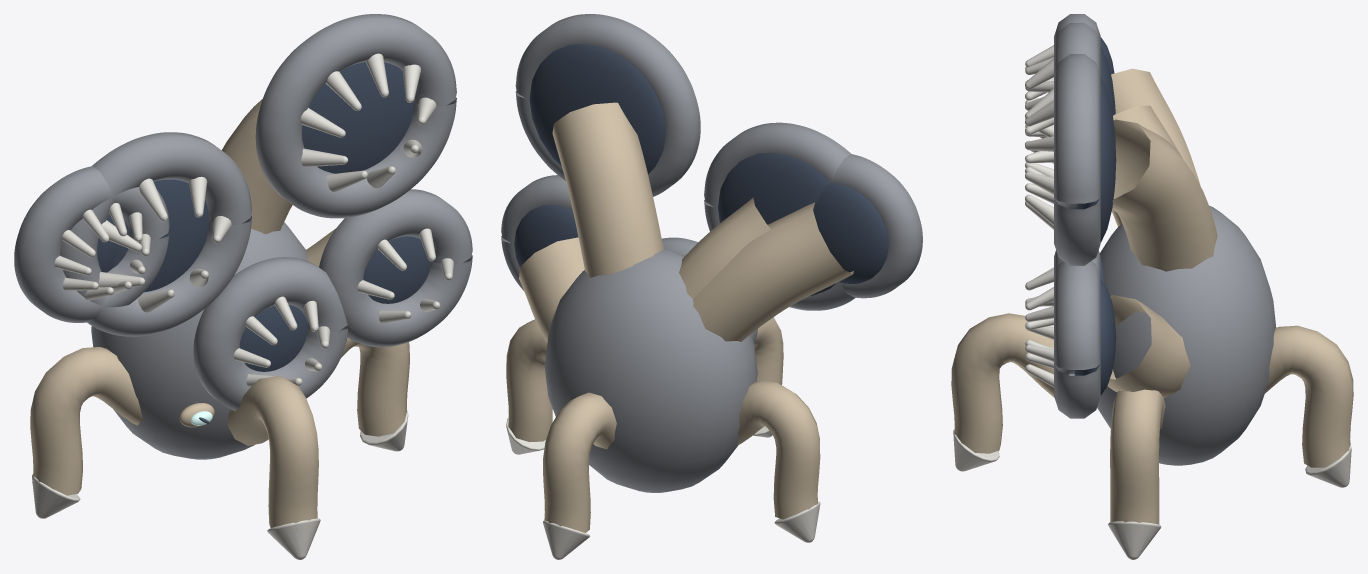
The model's file is bio_manymouth_08_near.glb.
The picture shows the model from 3 angles, left to right: view 1: azimuth 30°, elevation 25°; view 2: azimuth 150°, elevation 25°; view 3: azimuth 270°, elevation 25°; orthographic projection. The views are drawn at different scales.
Visible parts, largest first — view 1: Raised oral lip.003, Raised oral lip.001, Raised oral lip, Raised oral lip.002, Central branching knot, Raised oral lip.004, Crooked support.001, Crooked support.002, Recessed mouth cavity.003, Inward tooth.021, Crooked support.003, Recessed mouth cavity.001 (+11 smaller); view 2: Central branching knot, Bent oral neck.003, Bent oral neck.004, Raised oral lip.003, Recessed mouth cavity.003, Crooked support.001, Crooked support, Raised oral lip.001, Raised oral lip.004, Recessed mouth cavity.001, Recessed mouth cavity.004, Crooked support.003 (+9 smaller); view 3: Central branching knot, Bent oral neck.003, Raised oral lip.003, Crooked support.002, Crooked support, Raised oral lip, Crooked support.003, Bent oral neck, Inward tooth.021, Bent oral neck.004, Recessed mouth cavity.003, Inward tooth (+9 smaller).
Part boxes in pixels (x1,y1,x2,y2): Raised oral lip.003: (255, 14, 456, 218); Raised oral lip.001: (60, 132, 251, 336); Raised oral lip: (319, 189, 472, 347); Raised oral lip.002: (193, 257, 347, 411); Central branching knot: (91, 222, 307, 459); Raised oral lip.004: (14, 166, 169, 322); Crooked support.001: (30, 347, 143, 495); Crooked support.002: (227, 375, 318, 530); Recessed mouth cavity.003: (302, 62, 413, 173); Inward tooth.021: (300, 53, 436, 191); Crooked support.003: (341, 337, 409, 436); Recessed mouth cavity.001: (112, 179, 209, 292); Central branching knot: (544, 249, 757, 492); Bent oral neck.003: (552, 102, 663, 277); Bent oral neck.004: (693, 202, 853, 341); Raised oral lip.003: (515, 14, 700, 196); Recessed mouth cavity.003: (529, 44, 665, 173); Crooked support.001: (737, 380, 820, 519); Crooked support: (543, 392, 616, 532); Raised oral lip.001: (704, 122, 855, 310); Raised oral lip.004: (829, 154, 922, 298); Recessed mouth cavity.001: (718, 153, 835, 295); Recessed mouth cavity.004: (814, 182, 888, 283); Crooked support.003: (506, 319, 552, 441); Central branching knot: (1097, 205, 1276, 465); Bent oral neck.003: (1112, 119, 1217, 271); Raised oral lip.003: (1054, 54, 1100, 265); Crooked support.002: (951, 313, 1054, 453); Crooked support: (1265, 325, 1353, 467); Raised oral lip: (1054, 261, 1100, 418); Crooked support.003: (1110, 389, 1165, 530); Bent oral neck: (1107, 295, 1190, 398); Inward tooth.021: (1025, 88, 1053, 229); Bent oral neck.004: (1111, 68, 1200, 185); Recessed mouth cavity.003: (1077, 77, 1116, 242); Inward tooth: (1025, 287, 1053, 387).
Size of the model in its own units: 1.98 by 1.97 by 1.55.
